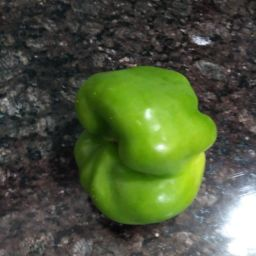Bell pepper: (49, 57, 227, 232)
